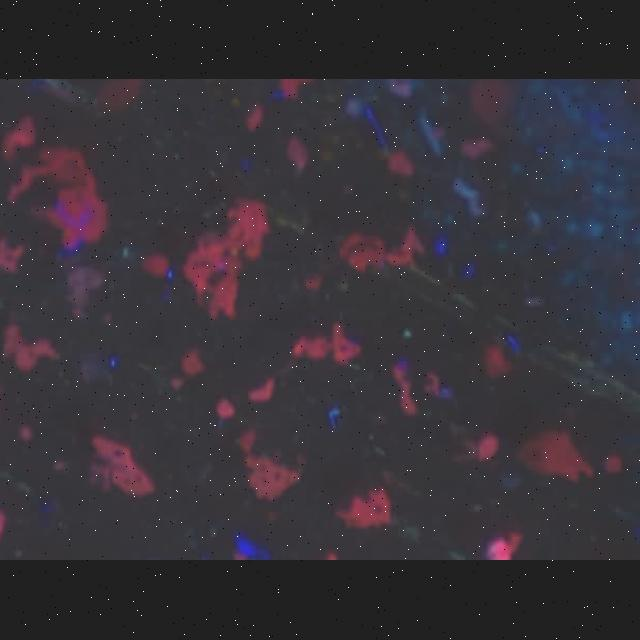Fragment: (90, 436, 156, 498)
